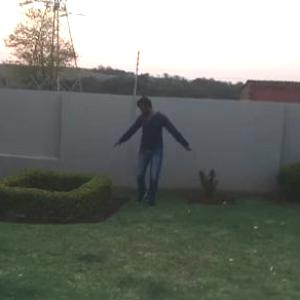land: (105, 91, 198, 221)
